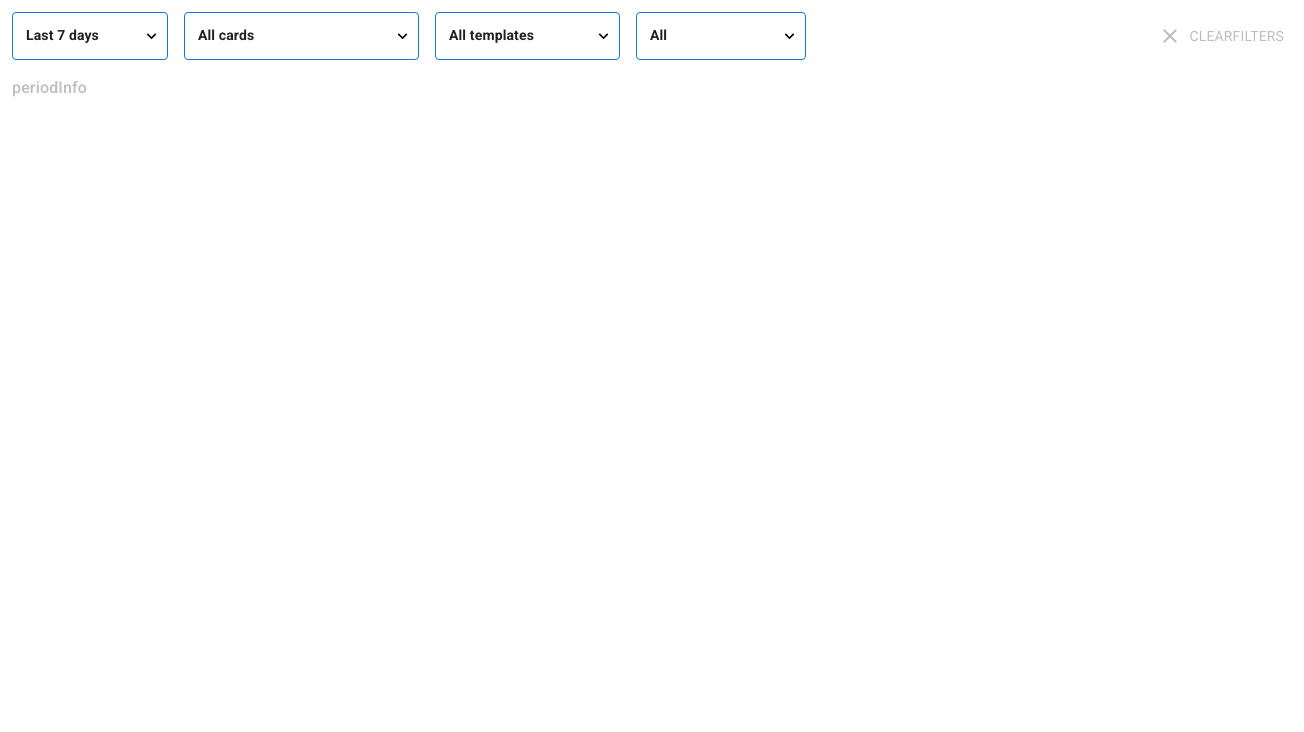
TransferFilters › renders "menu extender" when selecting "custom" option in date filter
The width and height of the screenshot is (1304, 732).
Press the mouse on the dropdown labelled "Last 7 days" at (62, 34), box 26,26 -> 99,42
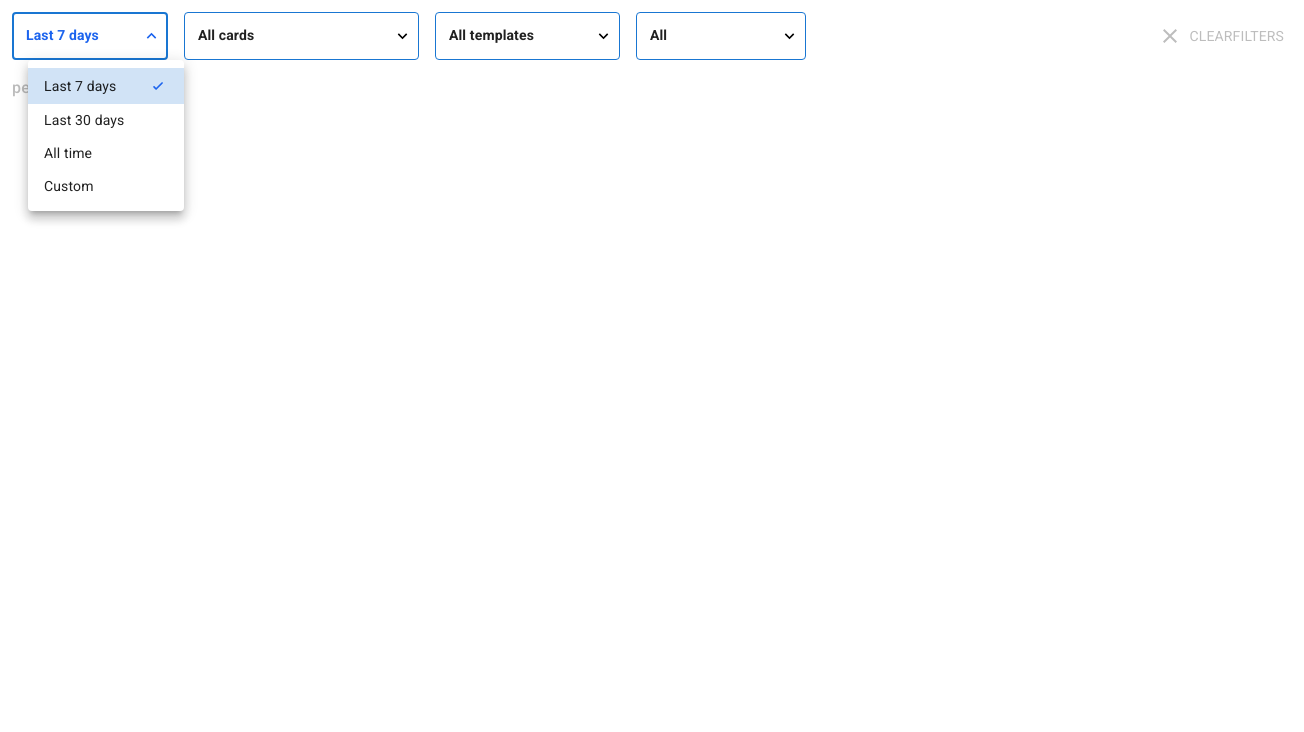
Click the option "Custom" at (69, 186), box 44,178 -> 94,194
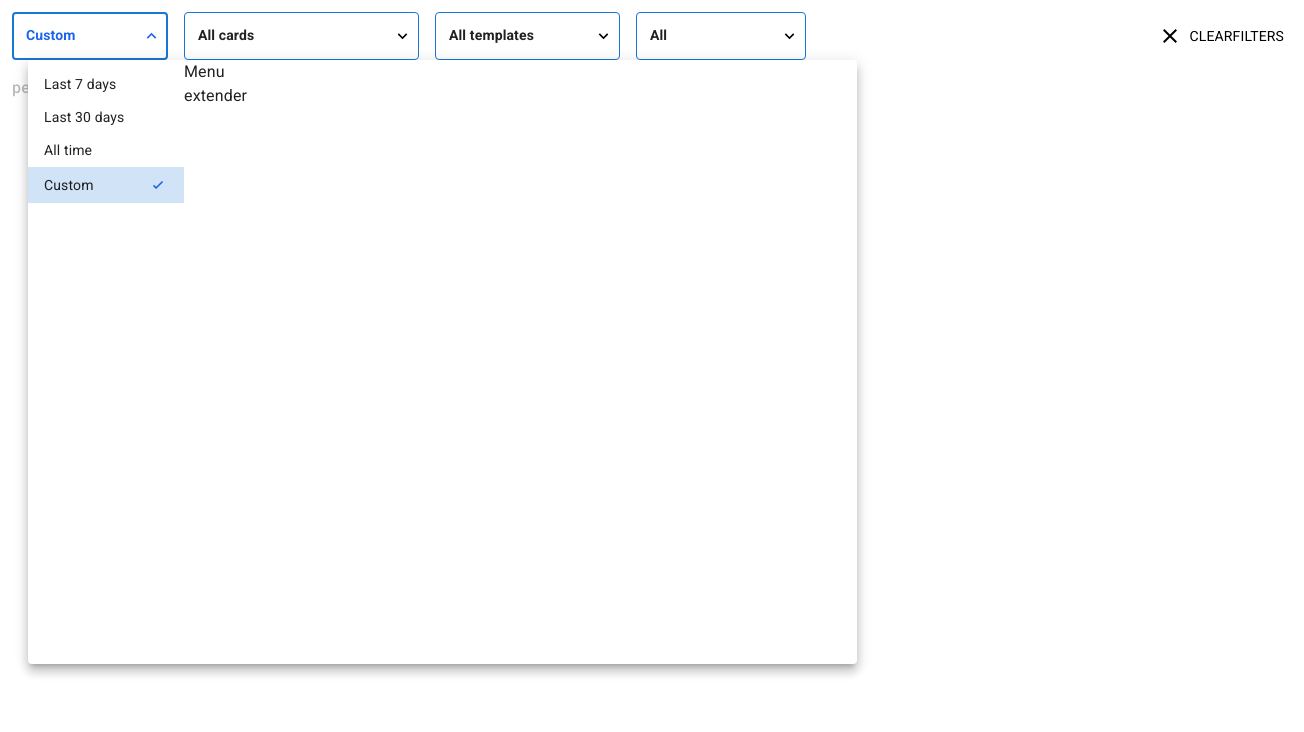
expect the list is shown: met, box 28,62 -> 247,203
expect the text "Menu extender" is shown: met, box 184,60 -> 247,108
